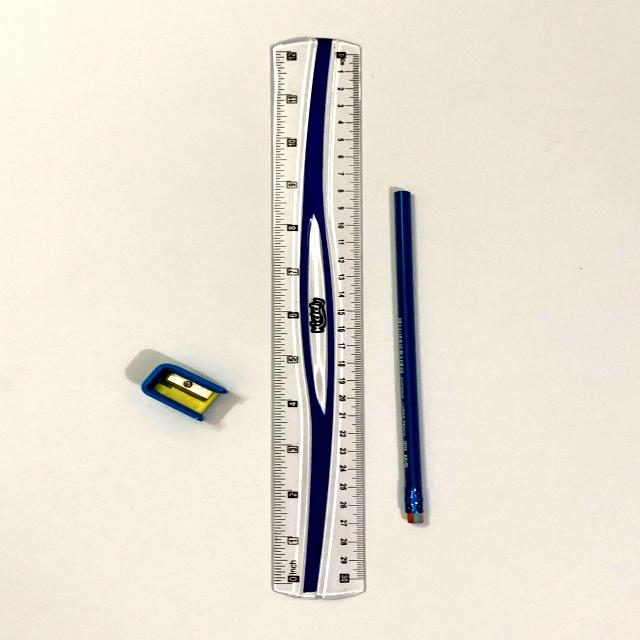Pencil: (368, 180, 450, 536)
Scale: (254, 21, 378, 612)
Sharpner: (123, 353, 244, 429)
